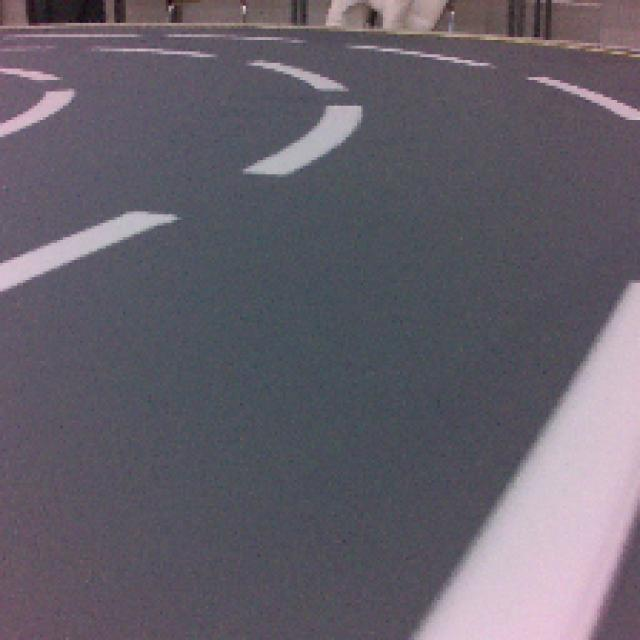Pedestrian crosswalk: (415, 282, 640, 640)
